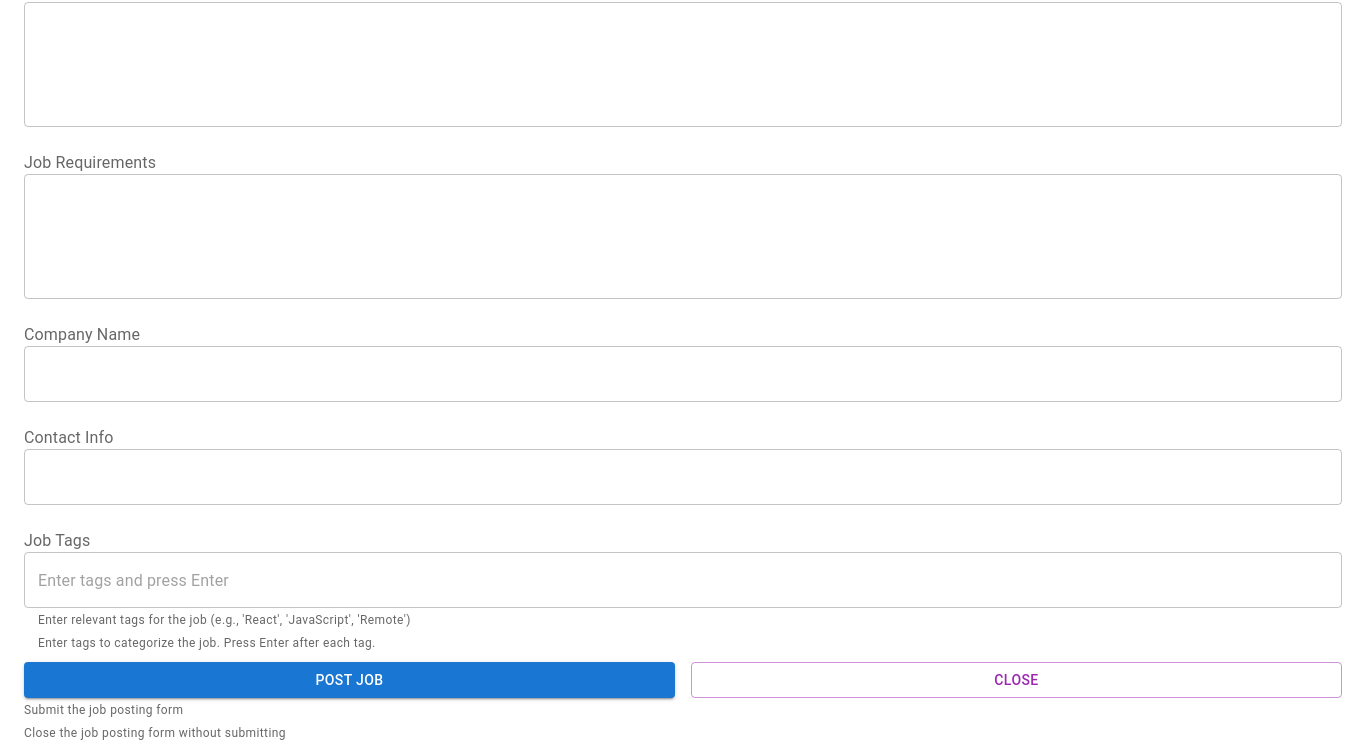
Test: CreateJobPosting › displays error messages for required fields
(page scrolled)
Click the button "Post Job" at [350, 680], box top-left (24, 662), bottom-right (675, 698)
(page scrolled)
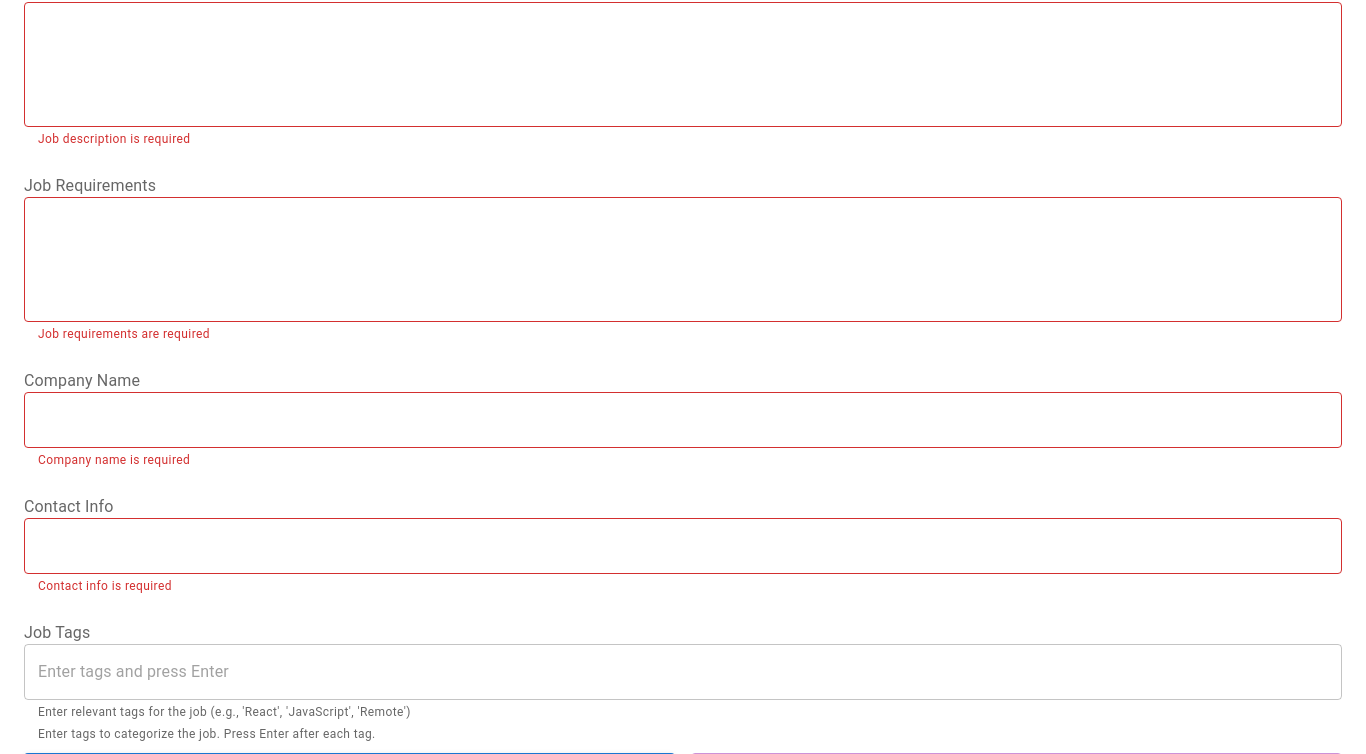
Check: the text "Job description is required" is shown, box top-left (38, 132), bottom-right (190, 146)
Check: the text "Job requirements are required" is shown, box top-left (38, 327), bottom-right (210, 341)
Check: the text "Company name is required" is shown, box top-left (38, 453), bottom-right (190, 467)
